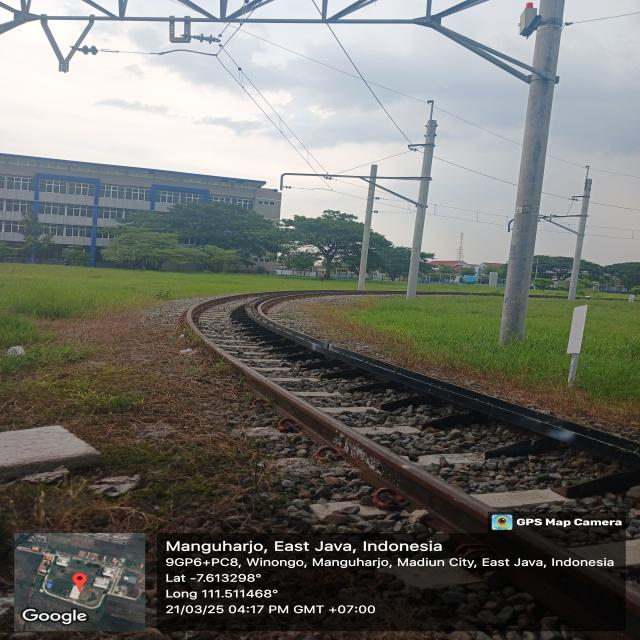rail-detection: (247, 300, 640, 468), (203, 336, 498, 534), (510, 569, 625, 630), (510, 529, 580, 559)
